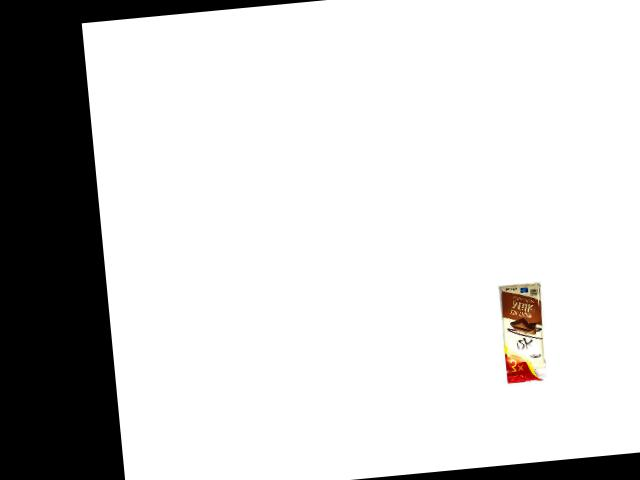chocolate: (495, 284, 551, 386)
